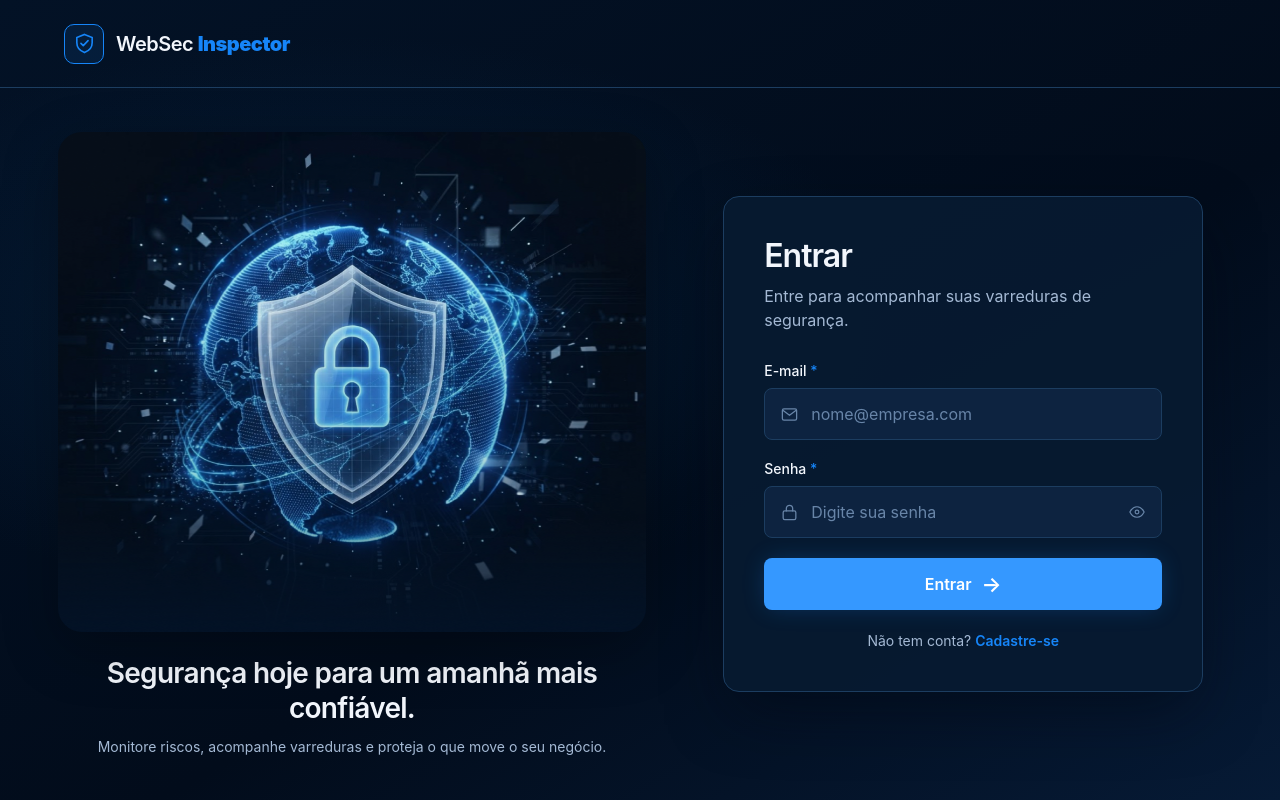
Test: restores the login layout, password toggle and invalid-email feedback
Click the button named "Mostrar senha" at (1136, 512), box [1126,499,1146,525]
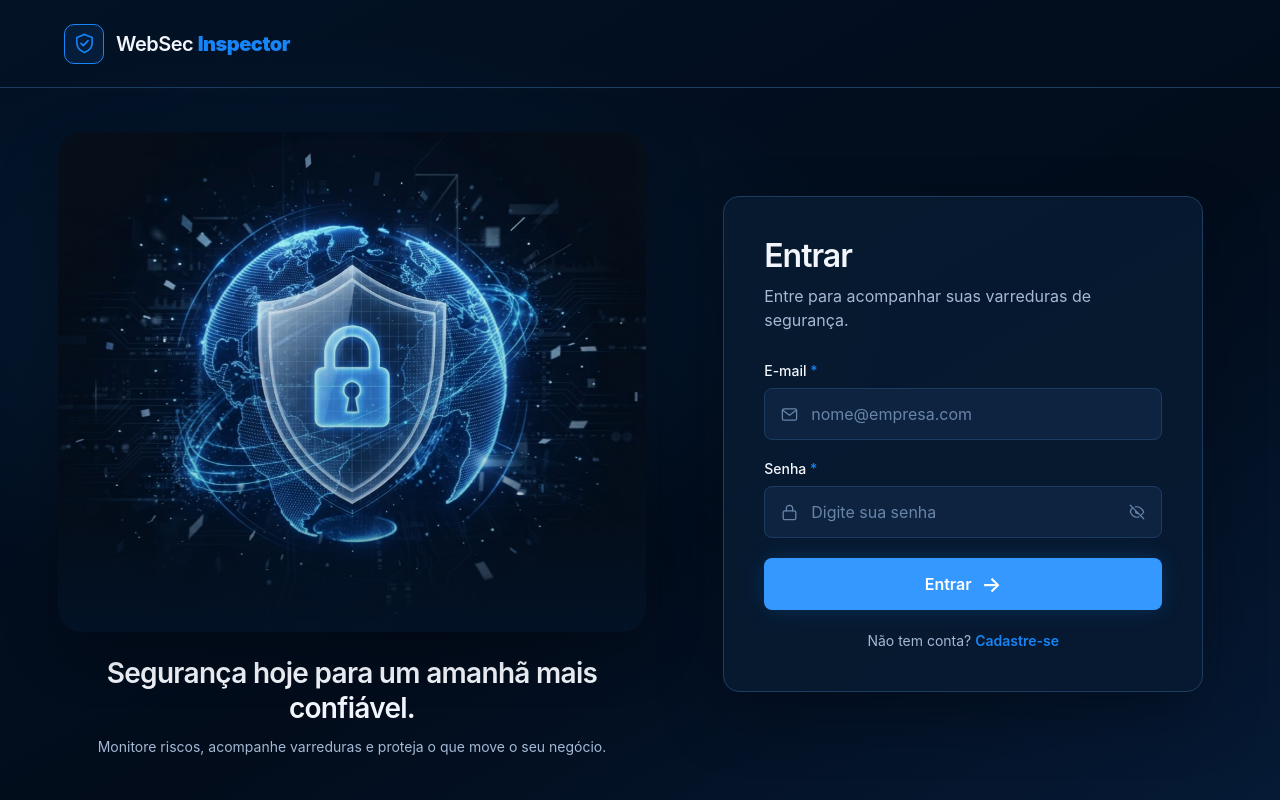
Type "invalid" into the field labelled "E-mail *" at (979, 414), box [811,402,1146,426]
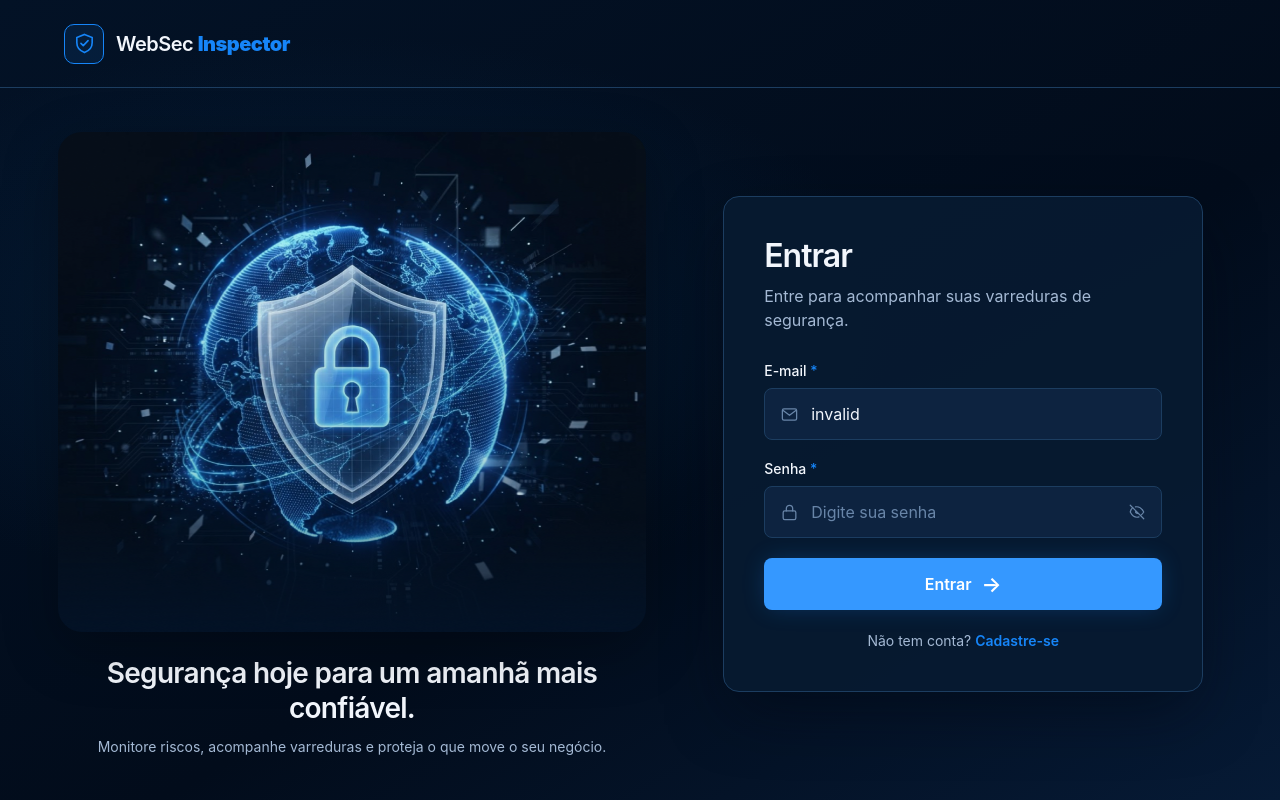
Submit the form, box [764,362,1162,610]
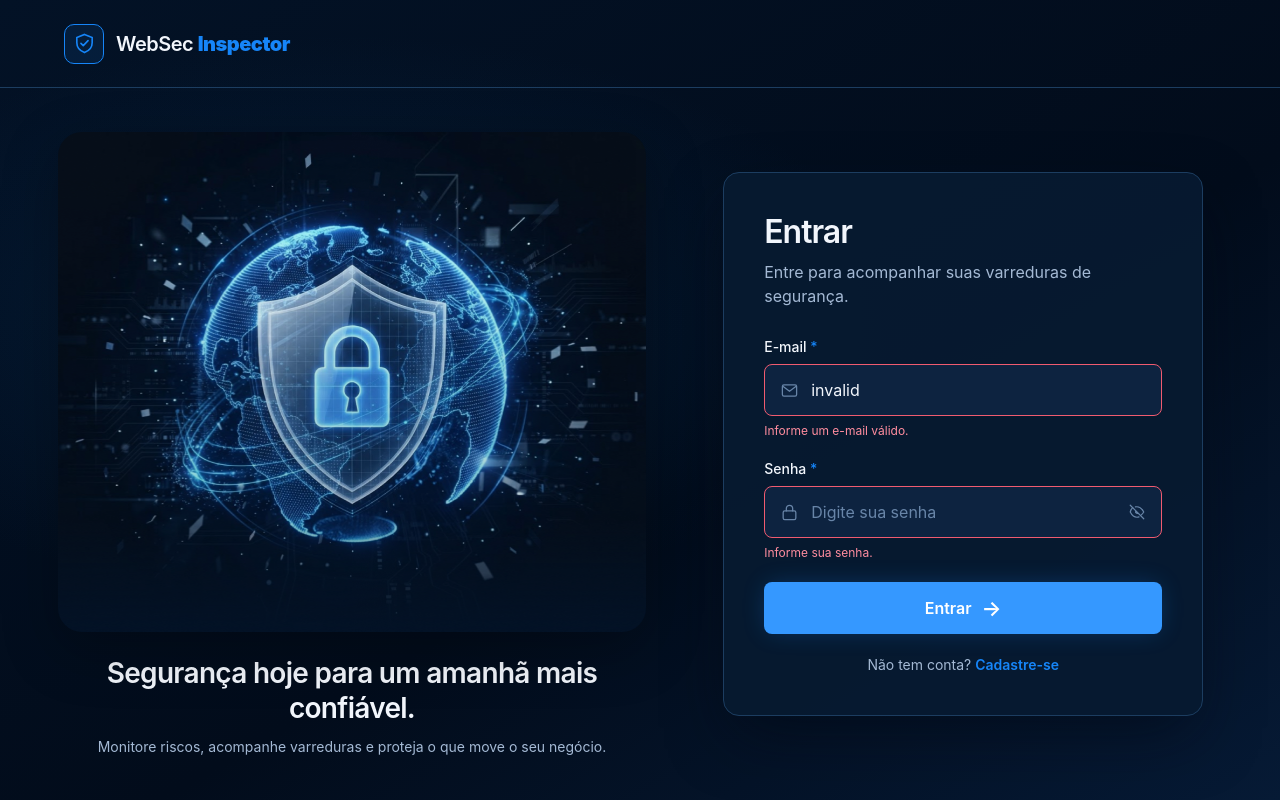
Now the text "Informe um e-mail válido." is shown, box [764,423,909,438]
